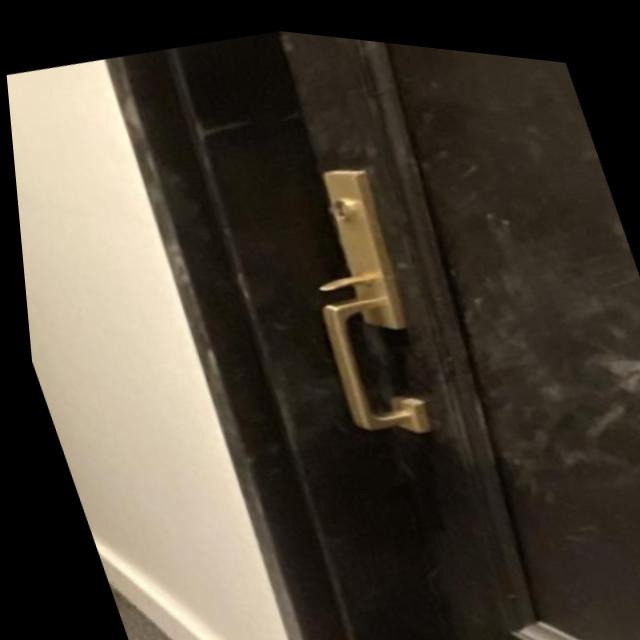door_handle: (289, 259, 466, 451)
